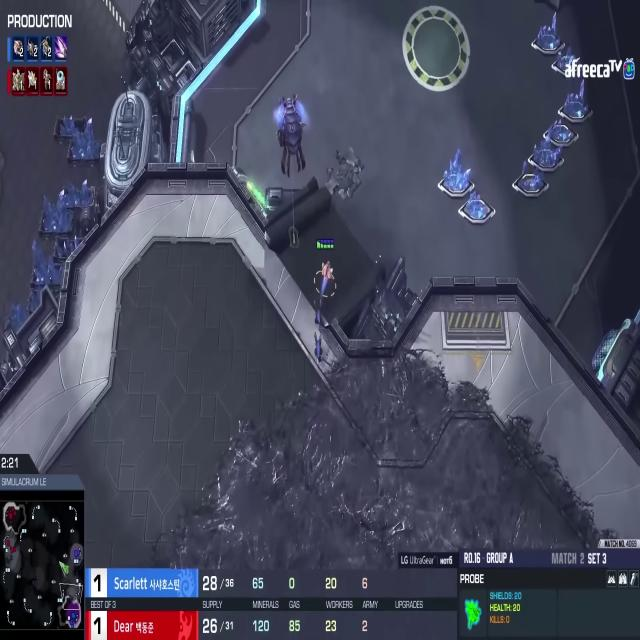overlord: (271, 87, 309, 179)
probe: (316, 248, 336, 294)
zergling: (310, 292, 328, 335), (310, 329, 328, 370)
